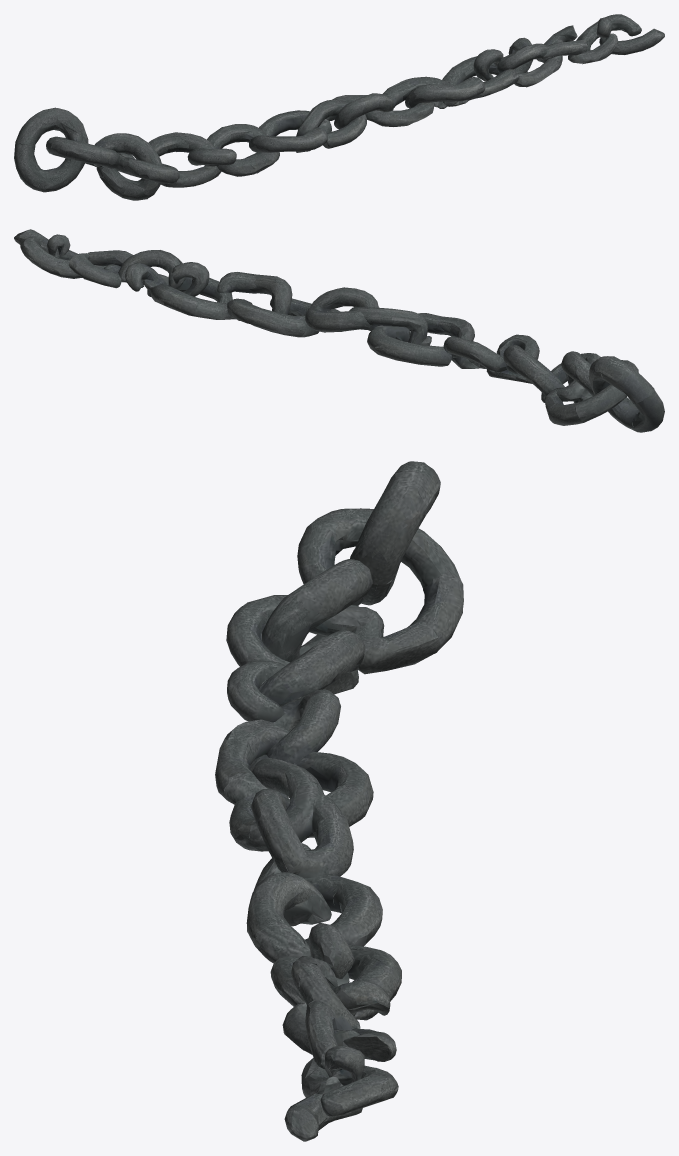
File: chain.glb
3 renders of one model, top to bottom at view 1: azimuth 30°, elevation 25°; view 2: azimuth 150°, elevation 25°; view 3: azimuth 270°, elevation 25°, orthographic. The views are drawn at different scales.
Parts seen in each view (by area): view 1: Mesh_0; view 2: Mesh_0; view 3: Mesh_0.
Part boxes in pixels (left/top/right/bottom): Mesh_0: left=14, top=14, right=664, bottom=200; Mesh_0: left=14, top=229, right=664, bottom=432; Mesh_0: left=215, top=461, right=463, bottom=1141.
Bounding box in the file's own units: 1.2 × 0.1524 × 0.2063.
Materials: 1 (1 with a texture image).
